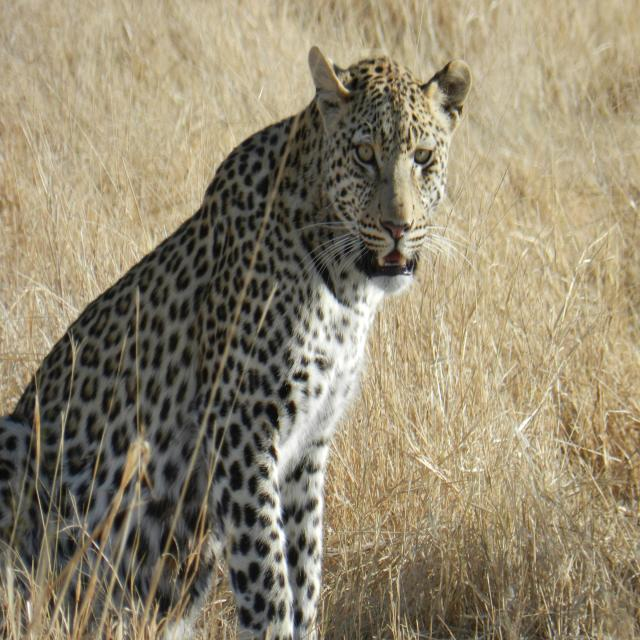Leopard: (0, 39, 488, 638)
